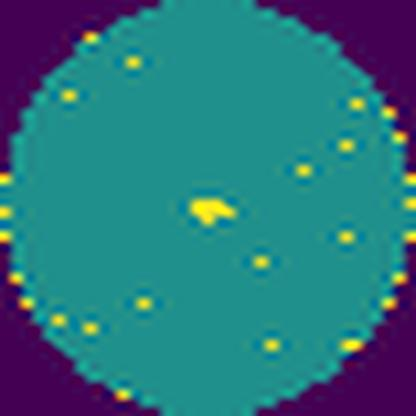Center: (188, 198, 238, 228)
